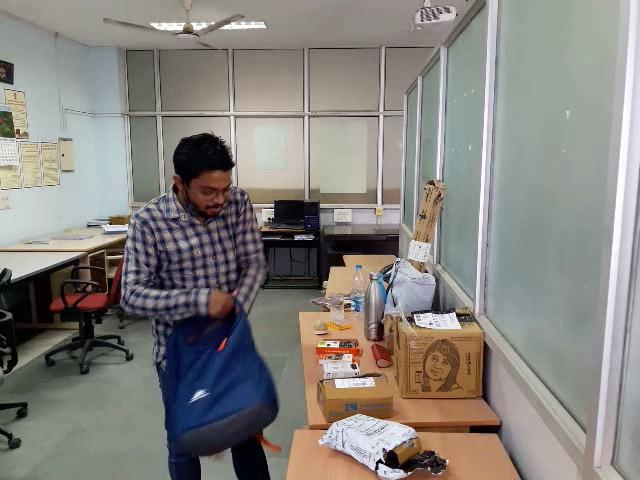shoplifting: (26, 234, 407, 476)
